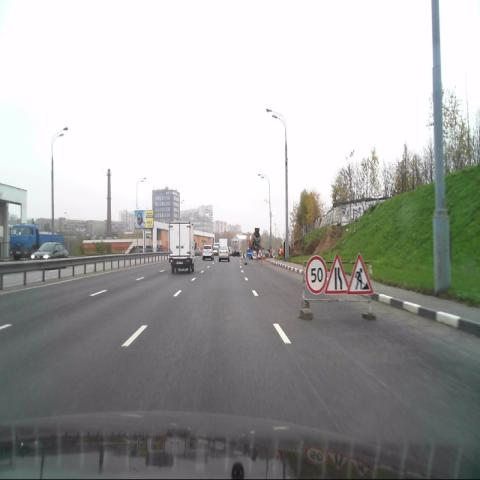1_20_2: (326, 256, 348, 294)
1_25: (349, 253, 373, 293)
3_24: (306, 256, 326, 294)
